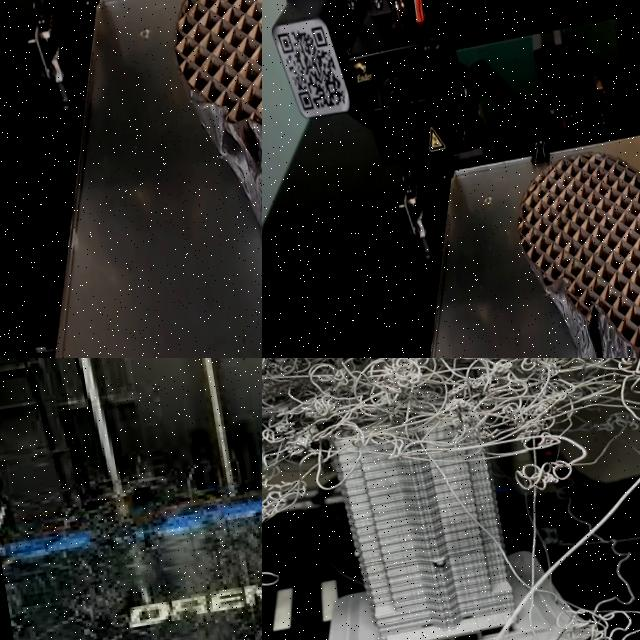spaghetti: (0, 358, 262, 640), (262, 358, 640, 534)
